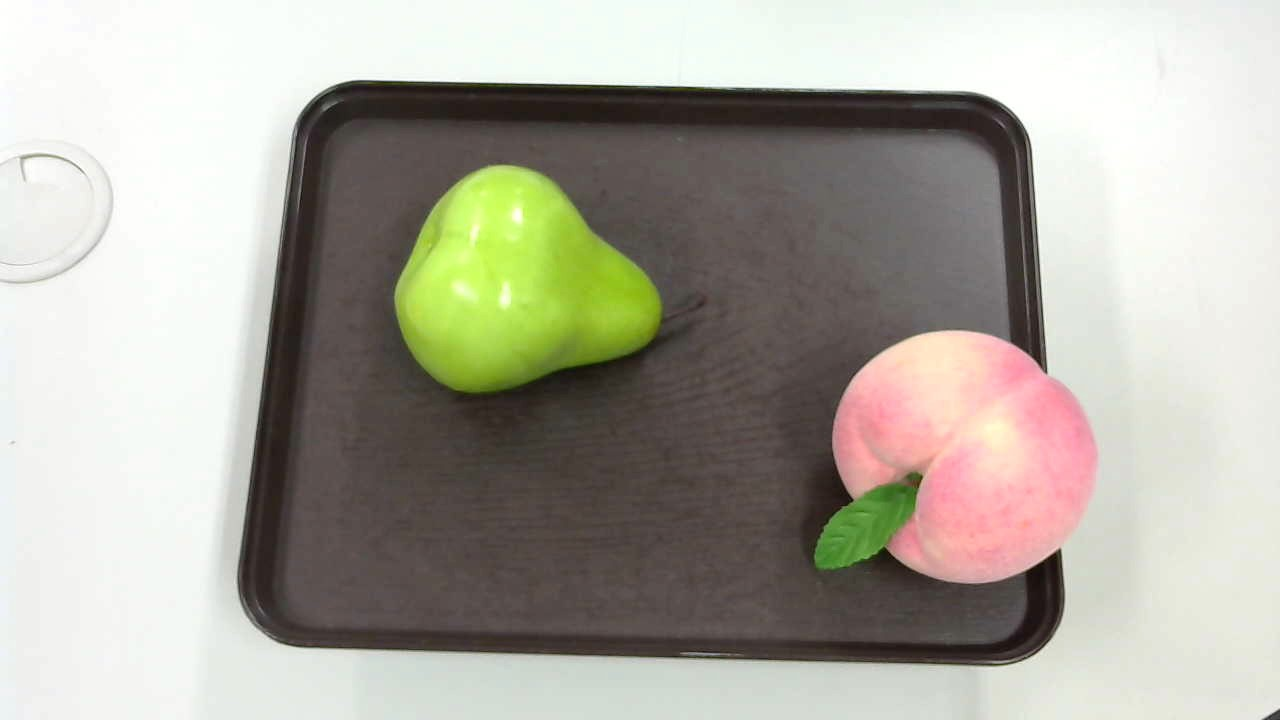green pear: (384, 160, 726, 411)
peach: (810, 325, 1100, 590)
